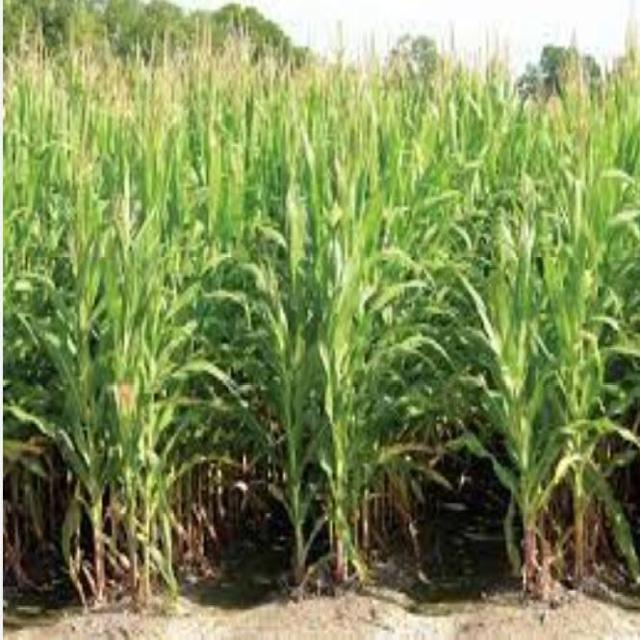row: (362, 456, 583, 631), (158, 501, 364, 625), (3, 532, 135, 635), (571, 503, 640, 633)
